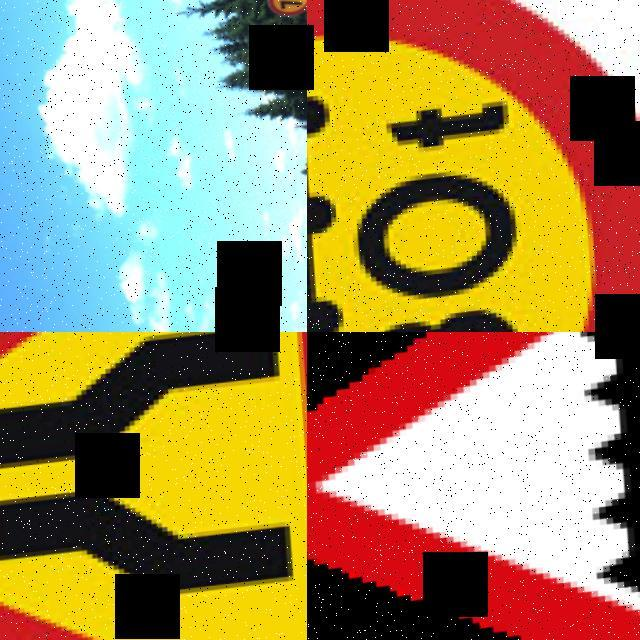131: (0, 332, 307, 640)
55: (262, 0, 307, 26)
Guarded level crossing ahead: (307, 332, 640, 640)
No vehicles or combination of vehicles exceeding weight shown: (307, 0, 640, 332)
